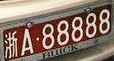A: (21, 29, 34, 56)
